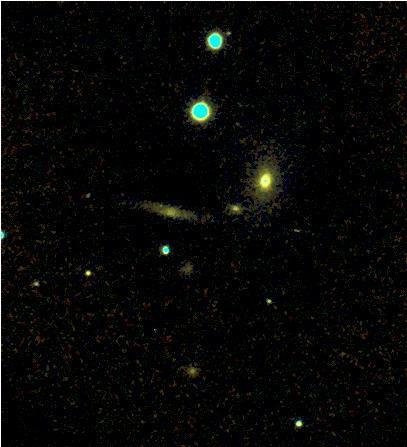star: (144, 190, 174, 220)
